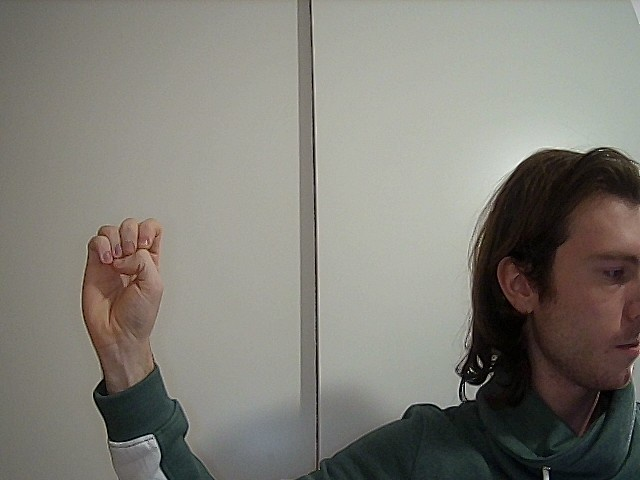e: (65, 202, 185, 343)
